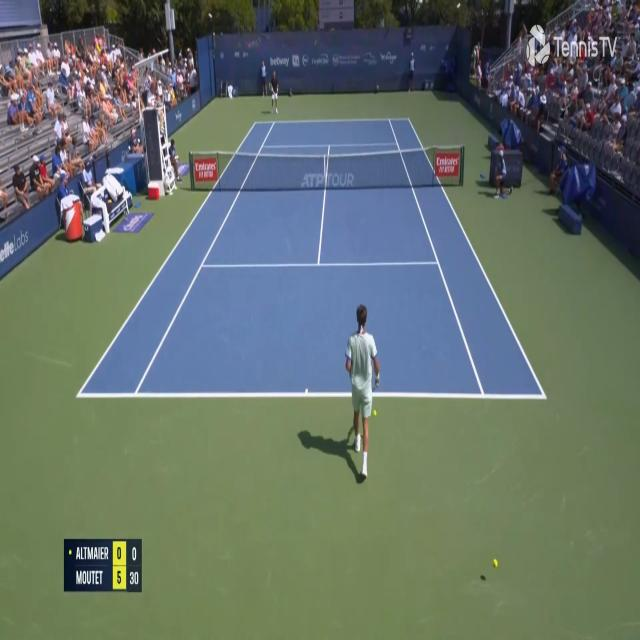tennis-player: (344, 302, 382, 480), (268, 68, 278, 115)
